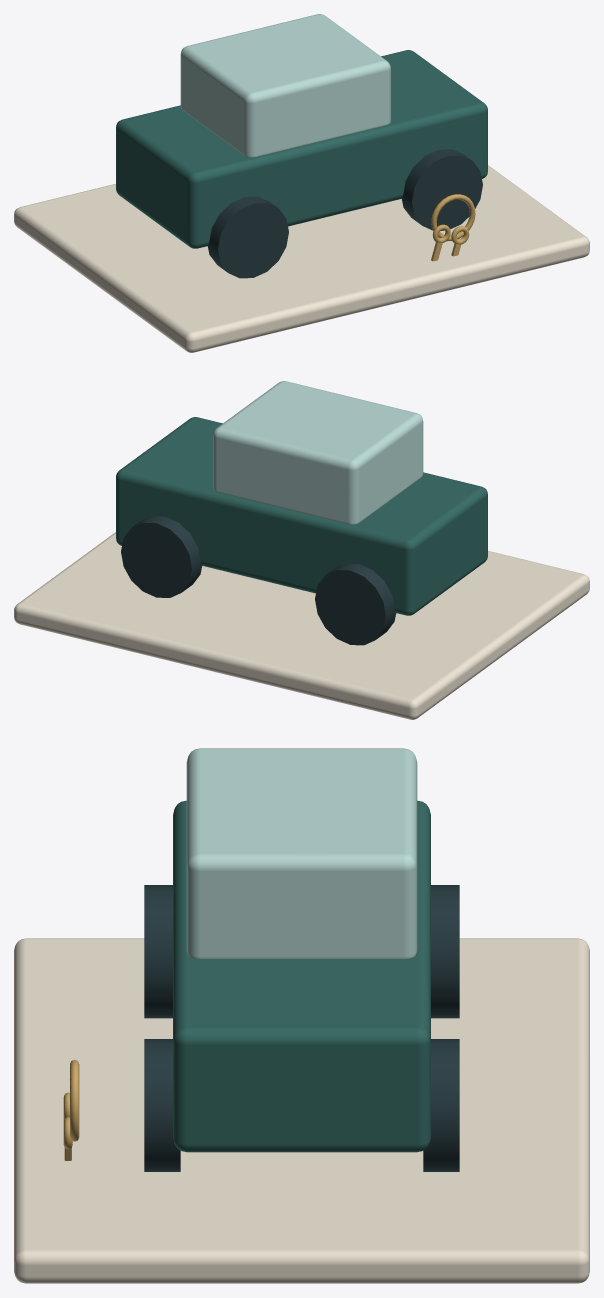
File: work-vehicle.glb
3 renders of one model, top to bottom at view 1: azimuth 30°, elevation 25°; view 2: azimuth 150°, elevation 25°; view 3: azimuth 270°, elevation 25°, orthographic. The views are drawn at different scales.
Parts seen in each view (by area): view 1: display-plinth, car-body, car-cabin, wheel (×2), keyring; view 2: display-plinth, car-body, car-cabin, wheel (×2); view 3: display-plinth, car-body, car-cabin, wheel (×4), keyring.
Boxes of the visible parts, x1,y1,x2,y2 form: display-plinth: (14,165,589,352); car-body: (116,50,487,248); car-cabin: (180,14,390,157); wheel (×2): (207,149,482,278); keyring: (431,194,475,241); display-plinth: (14,532,589,719); car-body: (116,417,487,615); car-cabin: (213,381,423,524); wheel (×2): (121,516,396,645); display-plinth: (14,938,589,1283); car-body: (173,800,430,1152); car-cabin: (186,748,417,958); wheel (×4): (144,885,459,1171); keyring: (70,1059,79,1141).
Size of the model in its own units: 2.5 by 1.14 by 1.9.
